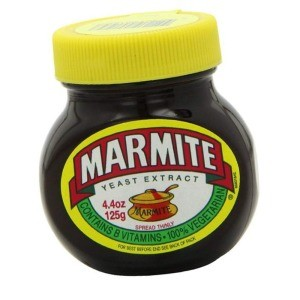yeast spread_brain food: (52, 119, 243, 240)
